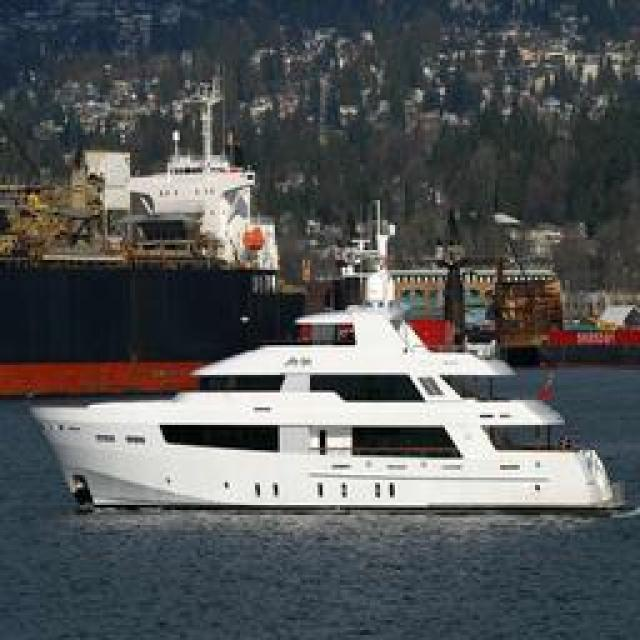CIV_Ship: (16, 314, 614, 518)
